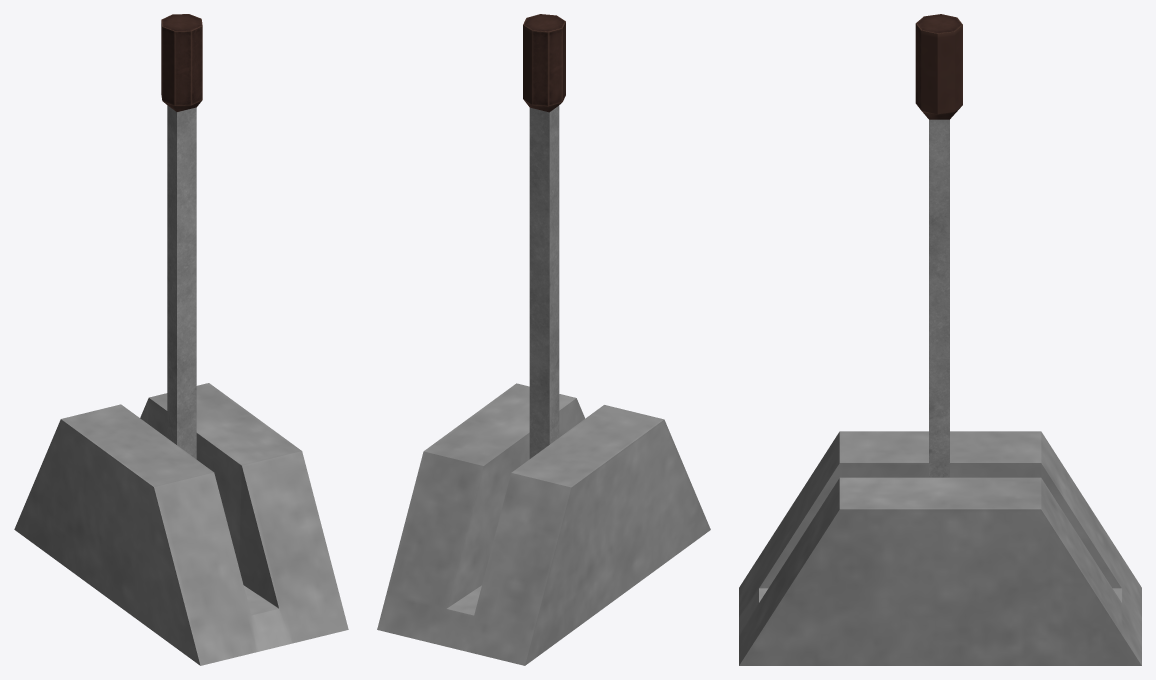
File: Lever.fbx
3 renders of one model, left to right at view 1: azimuth 30°, elevation 25°; view 2: azimuth 150°, elevation 25°; view 3: azimuth 270°, elevation 25°, orthographic. The views are drawn at different scales.
Visible parts, largest first — view 1: pCylinder3, polySurface51, polySurface52; view 2: pCylinder3, polySurface51, polySurface52; view 3: pCylinder3, polySurface51, polySurface52.
Boxes of the visible parts, <box> form: pCylinder3: <box>14,383,348,665</box>; polySurface51: <box>167,105,196,459</box>; polySurface52: <box>161,14,202,111</box>; pCylinder3: <box>377,383,710,665</box>; polySurface51: <box>529,105,559,458</box>; polySurface52: <box>523,14,565,112</box>; pCylinder3: <box>739,431,1141,665</box>; polySurface51: <box>929,119,949,477</box>; polySurface52: <box>915,14,962,119</box>.
Size of the model in its own units: 16.08 by 57.8 by 35.01.
1 material, 1 textured.
